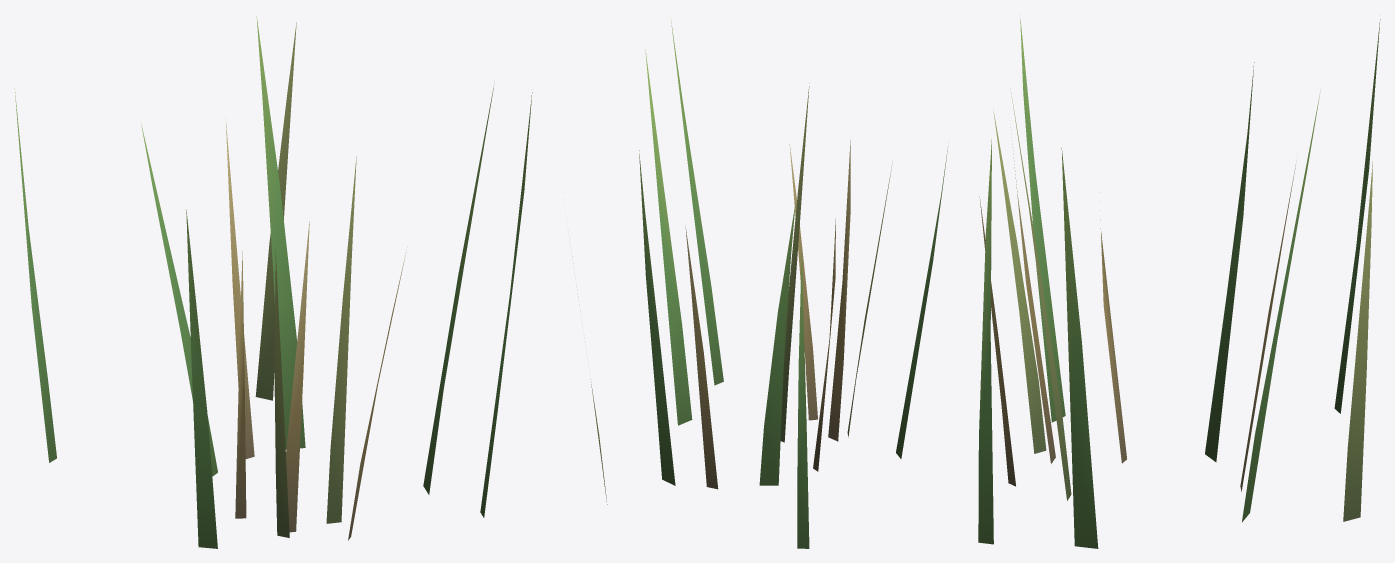
Rendered from SparseField_LOD0.glb.
3 renders of one model, left to right at view 1: azimuth 30°, elevation 25°; view 2: azimuth 150°, elevation 25°; view 3: azimuth 270°, elevation 25°, orthographic. The views are drawn at different scales.
Visible parts, largest first — view 1: SparseField_LOD0; view 2: SparseField_LOD0; view 3: SparseField_LOD0.
Boxes of the visible parts, x1=… form: SparseField_LOD0: x1=14, y1=16, x2=532, y2=548; SparseField_LOD0: x1=568, y1=20, x2=948, y2=548; SparseField_LOD0: x1=978, y1=18, x2=1380, y2=548.
Size of the model in its own units: 0.2131 by 0.2571 by 0.2101.
